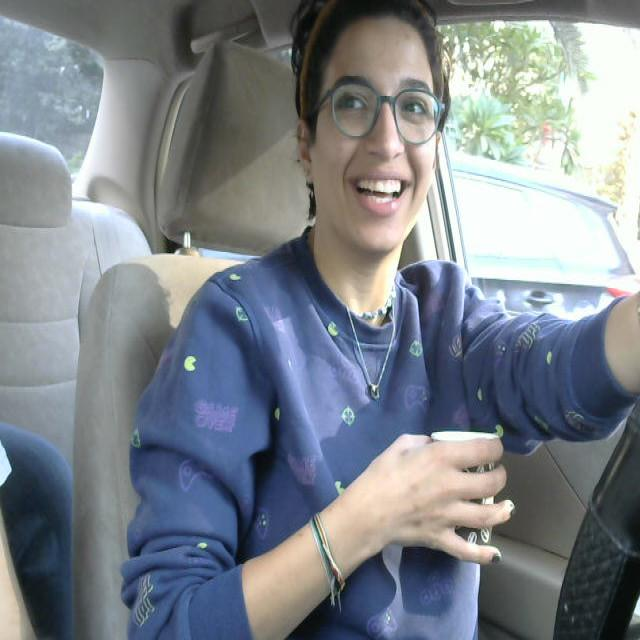drinking: (418, 424, 514, 568)
